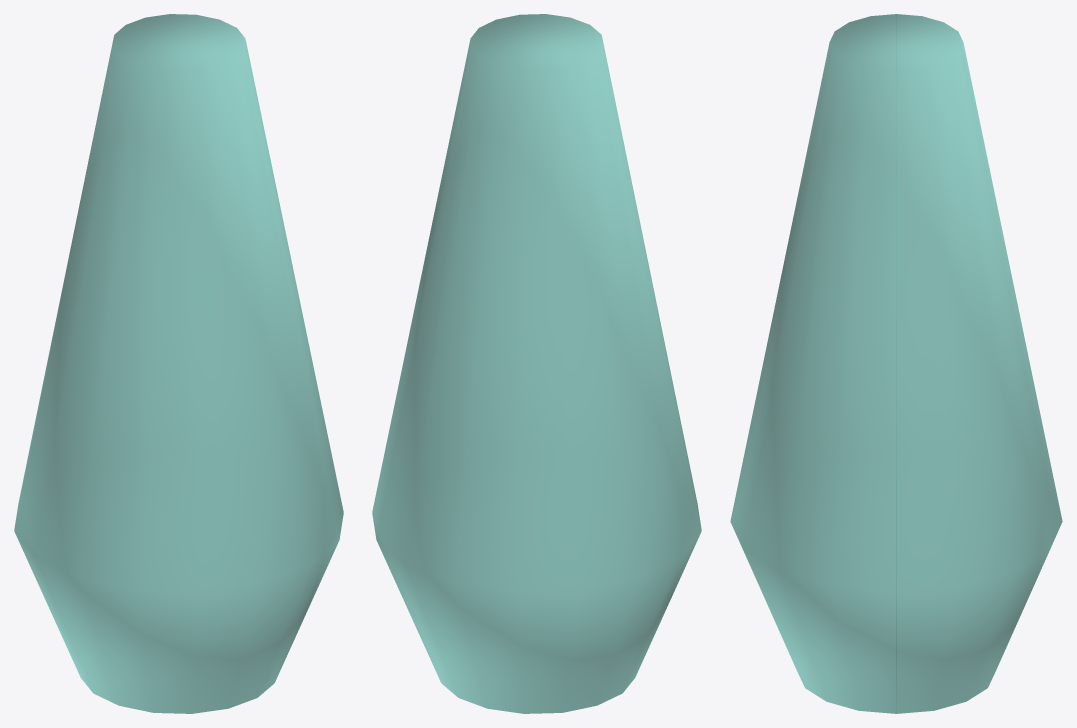
File: lampglass.dae
The picture shows the model from 3 angles, left to right: view 1: azimuth 30°, elevation 25°; view 2: azimuth 150°, elevation 25°; view 3: azimuth 270°, elevation 25°; orthographic projection.
Parts seen in each view (by area): view 1: Cylinder_001; view 2: Cylinder_001; view 3: Cylinder_001.
Boxes of the visible parts, x1,y1,x2,y2 form: Cylinder_001: (14, 14, 343, 713); Cylinder_001: (372, 14, 701, 713); Cylinder_001: (730, 14, 1062, 713).
Size of the model in its own units: 2 by 2 by 4.18.
